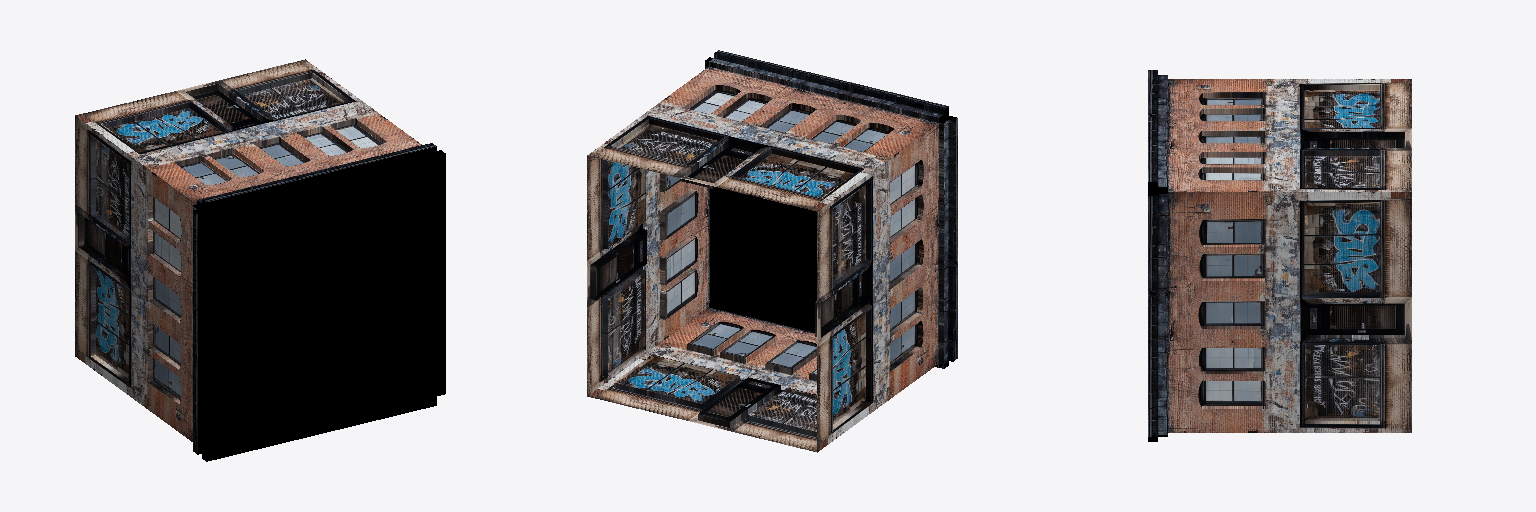
3 renders of one model, left to right at view 1: azimuth 30°, elevation 25°; view 2: azimuth 150°, elevation 25°; view 3: azimuth 270°, elevation 25°, orthographic.
Visible parts, largest first — view 1: Building_2.002_Building_2_0; view 2: Building_2.002_Building_2_0; view 3: Building_2.002_Building_2_0.
Boxes of the visible parts, x1=… form: Building_2.002_Building_2_0: x1=75, y1=59, x2=445, y2=461; Building_2.002_Building_2_0: x1=587, y1=50, x2=957, y2=452; Building_2.002_Building_2_0: x1=1148, y1=70, x2=1411, y2=441.
Bounding box in the file's own units: 7.21 × 7.21 × 6.62.
3 materials, 1 textured.